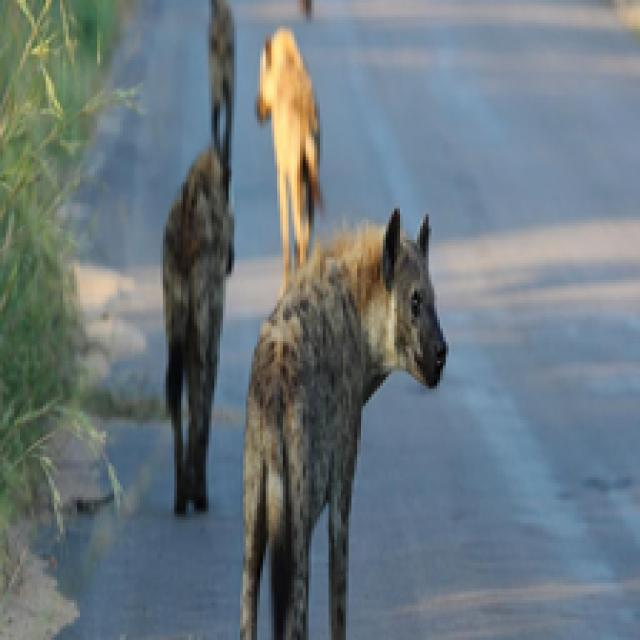hyena: (234, 237, 501, 640), (164, 137, 239, 485)
